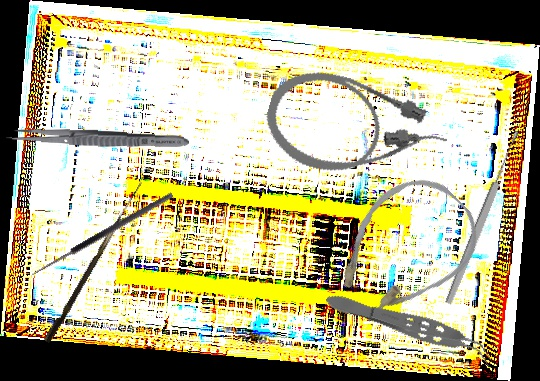Cannula: (311, 158, 496, 343), (256, 59, 456, 201)
Dressing Forceps: (6, 126, 190, 151)
Hook Surgical: (43, 177, 143, 345), (29, 191, 178, 286)
Surgical Spoon: (443, 129, 523, 306)
Tissue Forceps: (322, 286, 499, 368)
